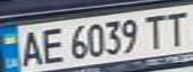0: (84, 20, 106, 58)
3: (103, 18, 124, 56)
6: (66, 21, 90, 61)
9: (118, 16, 142, 54)
A: (15, 28, 45, 69)
E: (36, 25, 66, 65)
T: (160, 8, 193, 47), (139, 11, 169, 50)
